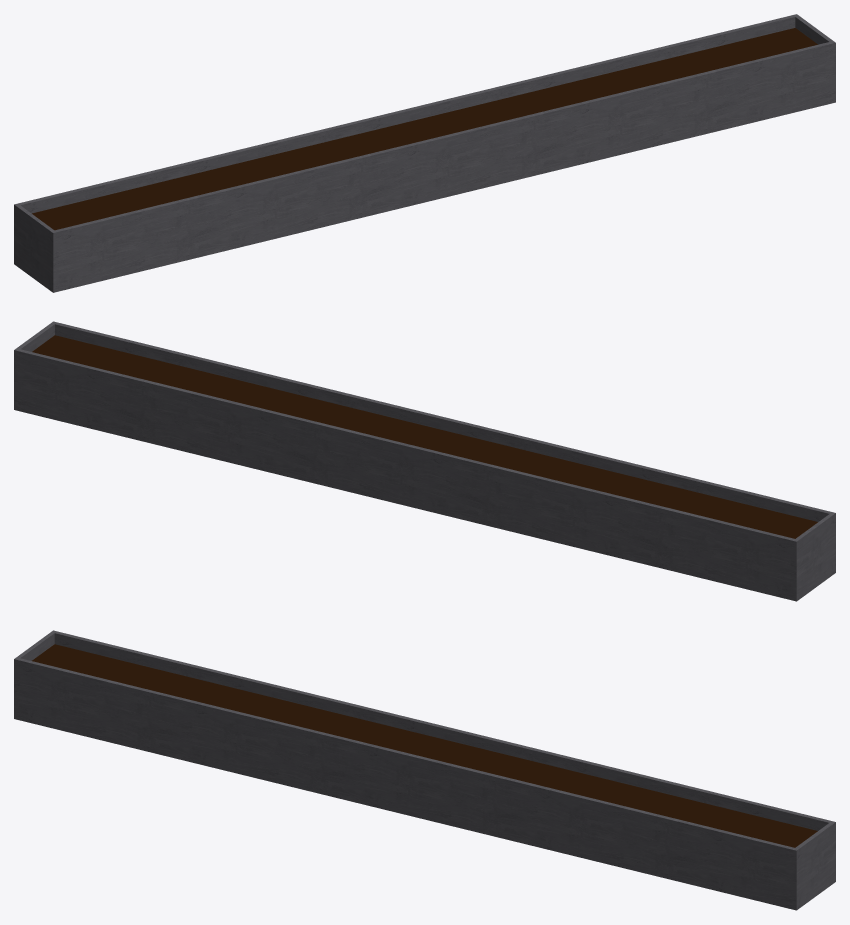
Rendered from Planter_B.glb.
The picture shows the model from 3 angles, top to bottom: view 1: azimuth 30°, elevation 25°; view 2: azimuth 150°, elevation 25°; view 3: azimuth 330°, elevation 25°; orthographic projection.
Visible parts, largest first — view 1: Planter_B; view 2: Planter_B; view 3: Planter_B.
Boxes of the visible parts, <box> form: Planter_B: <box>14,14,835,292</box>; Planter_B: <box>14,321,835,601</box>; Planter_B: <box>14,630,835,910</box>.
Size of the model in its own units: 5.79 by 0.4222 by 0.5105.
Materials: 2 (2 with a texture image).
